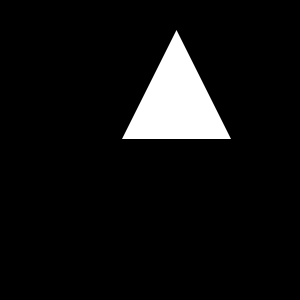triangle: (122, 30, 231, 139)
